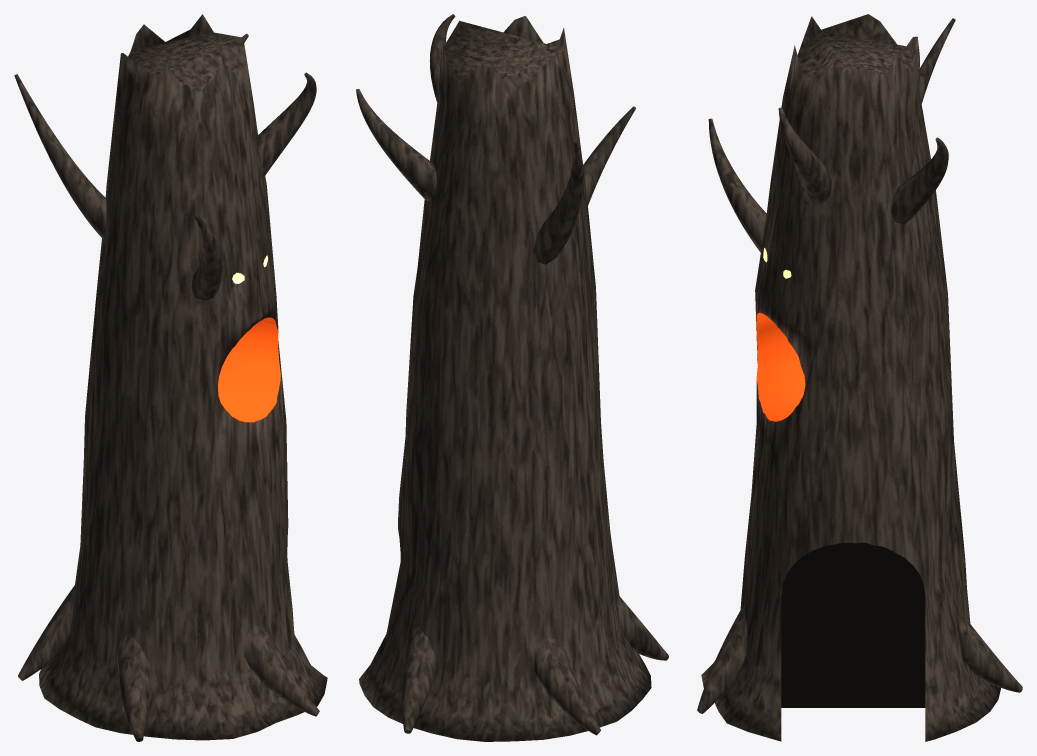
File: haunted-tree.glb
The picture shows the model from 3 angles, left to right: view 1: azimuth 30°, elevation 25°; view 2: azimuth 150°, elevation 25°; view 3: azimuth 270°, elevation 25°; orthographic projection. The views are drawn at different scales.
Visible parts, largest first — view 1: trunk, limbs; view 2: trunk, limbs; view 3: trunk, limbs.
Part boxes in pixels (bbox=[...]): trunk: bbox=[39, 14, 327, 740]; limbs: bbox=[14, 33, 319, 741]; trunk: bbox=[359, 16, 651, 741]; limbs: bbox=[356, 14, 668, 735]; trunk: bbox=[701, 14, 1000, 741]; limbs: bbox=[697, 18, 1022, 713].
Size of the model in its own units: 5.87 by 15 by 6.78.
Materials: 5 (2 with a texture image).
